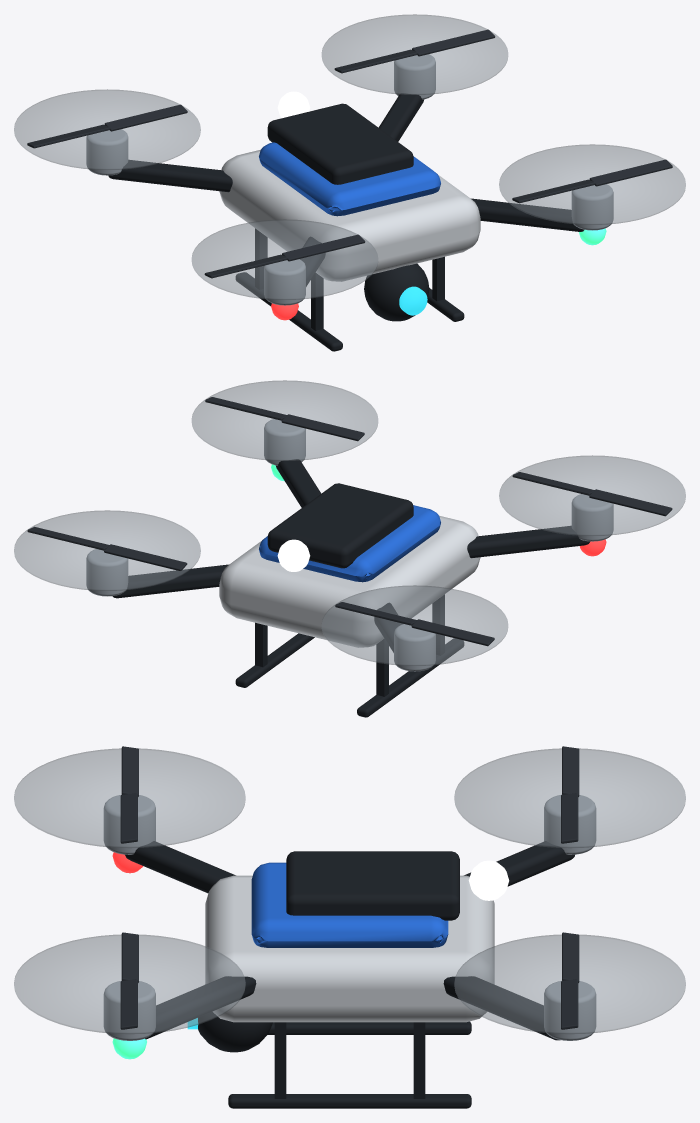
Rendered from drone.glb.
The picture shows the model from 3 angles, top to bottom: view 1: azimuth 30°, elevation 25°; view 2: azimuth 150°, elevation 25°; view 3: azimuth 270°, elevation 25°; orthographic projection. The views are drawn at different scales.
Parts seen in each view (by area): view 1: Body, Disc_2, Disc_1, Disc_0, Disc_3, Battery, Canopy, Arm_3, Gimbal_Ball, Arm_0, Motor_0, Motor_1 (+17 smaller); view 2: Body, Disc_0, Disc_3, Disc_1, Disc_2, Battery, Canopy, Arm_1, Arm_2, Motor_2, Motor_3, Motor_1 (+17 smaller); view 3: Body, Disc_0, Disc_1, Disc_2, Disc_3, Battery, Canopy, Skid_1, Arm_2, Arm_0, Arm_1, Skid_-1 (+18 smaller).
Part boxes in pixels (x1=…): Body: x1=219, y1=149, x2=480, y2=281; Disc_2: x1=321, y1=14, x2=508, y2=94; Disc_1: x1=191, y1=219, x2=378, y2=299; Disc_0: x1=499, y1=144, x2=685, y2=224; Disc_3: x1=14, y1=89, x2=200, y2=169; Battery: x1=267, y1=103, x2=413, y2=184; Canopy: x1=259, y1=142, x2=440, y2=216; Arm_3: x1=108, y1=160, x2=232, y2=192; Gimbal_Ball: x1=364, y1=263, x2=429, y2=321; Arm_0: x1=471, y1=198, x2=584, y2=231; Motor_0: x1=571, y1=184, x2=613, y2=230; Motor_1: x1=264, y1=259, x2=305, y2=305; Body: x1=219, y1=515, x2=480, y2=647; Disc_0: x1=191, y1=380, x2=378, y2=460; Disc_3: x1=321, y1=585, x2=508, y2=665; Disc_1: x1=499, y1=455, x2=685, y2=535; Disc_2: x1=14, y1=510, x2=200, y2=590; Battery: x1=267, y1=483, x2=413, y2=568; Canopy: x1=259, y1=505, x2=440, y2=582; Arm_1: x1=467, y1=526, x2=590, y2=558; Arm_2: x1=112, y1=564, x2=228, y2=598; Motor_2: x1=86, y1=549, x2=128, y2=596; Motor_3: x1=394, y1=624, x2=435, y2=671; Motor_1: x1=571, y1=494, x2=613, y2=541; Body: x1=205, y1=875, x2=494, y2=1022; Disc_0: x1=14, y1=934, x2=245, y2=1034; Disc_1: x1=14, y1=748, x2=245, y2=848; Disc_2: x1=454, y1=934, x2=685, y2=1034; Disc_3: x1=454, y1=748, x2=685, y2=848; Battery: x1=286, y1=851, x2=459, y2=920; Canopy: x1=251, y1=862, x2=448, y2=947; Skid_1: x1=228, y1=1094, x2=471, y2=1108; Arm_2: x1=443, y1=976, x2=560, y2=1040; Arm_0: x1=145, y1=976, x2=256, y2=1039; Arm_1: x1=125, y1=841, x2=235, y2=893; Skid_-1: x1=267, y1=1021, x2=471, y2=1034.
Bounding box in the file's own units: 1.16 × 0.395 × 1.16.
